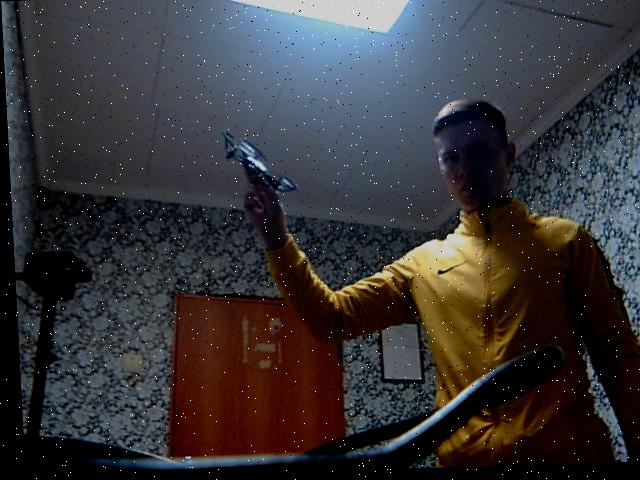drone: (203, 111, 310, 215)
